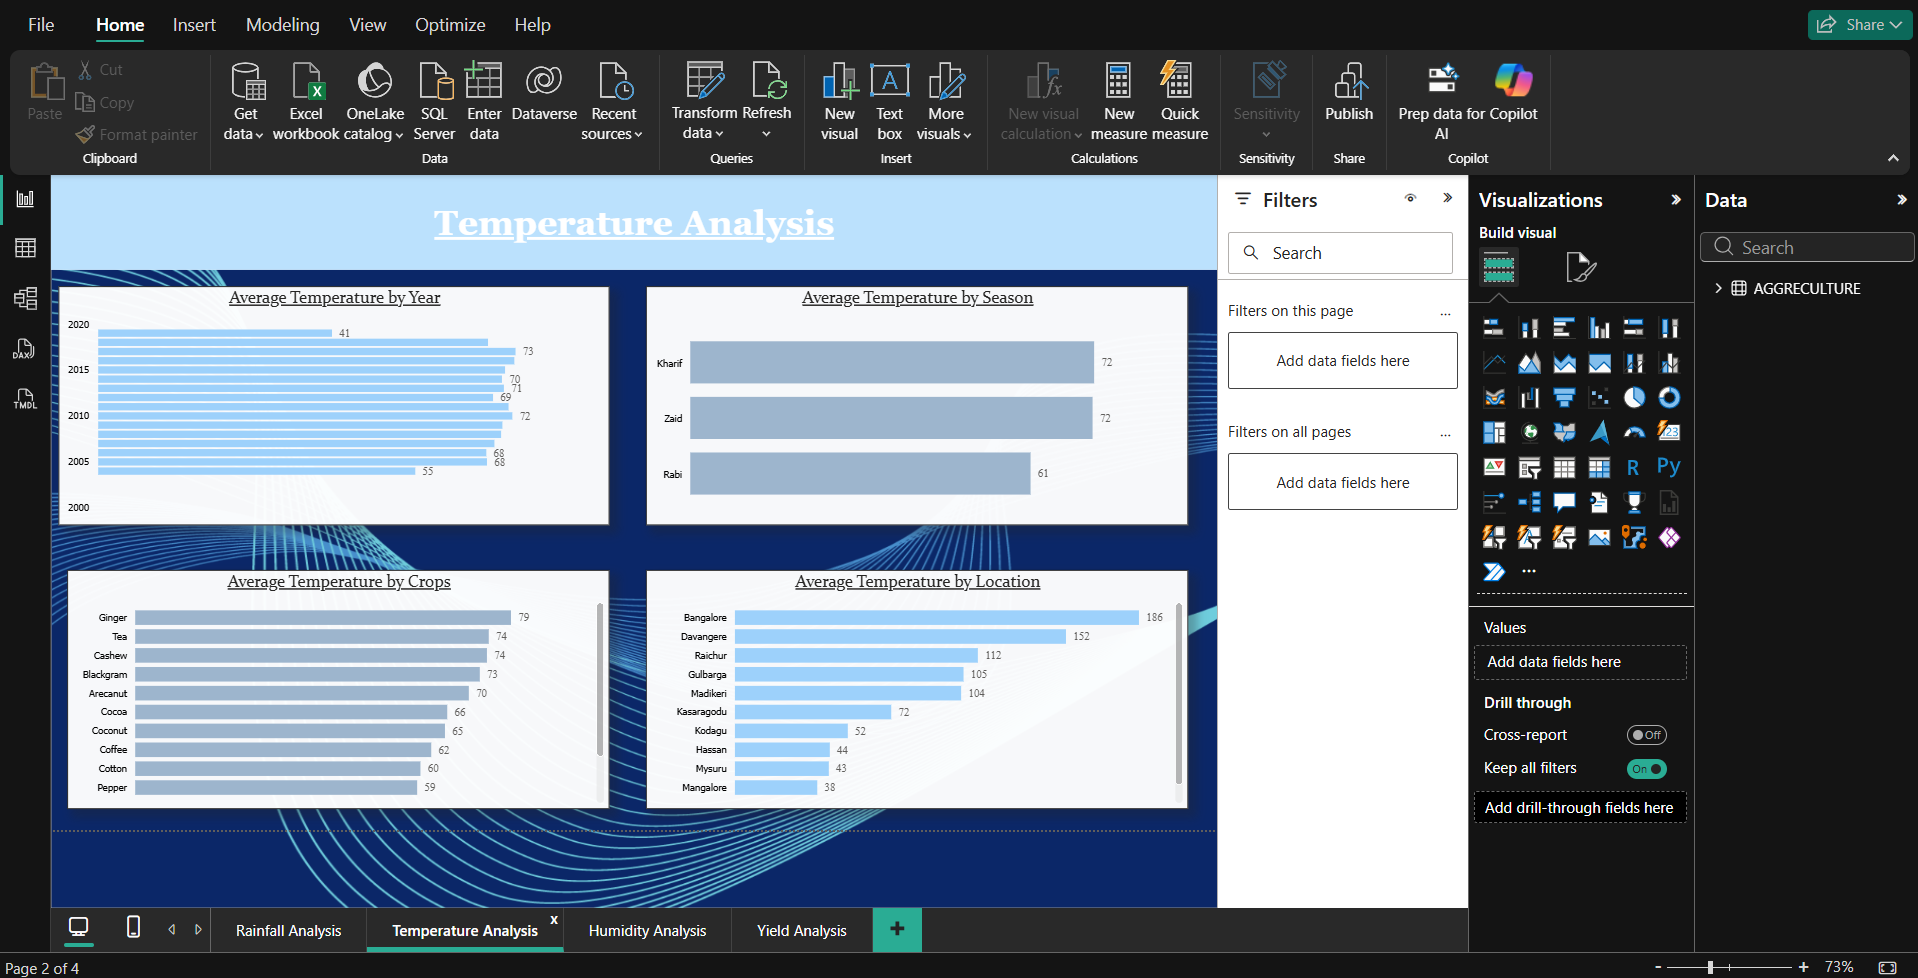

This screenshot's page, from the dashboard's own definition file:
{"tool":"powerbi","page":{"name":"Temperature Analysis","canvas":[1280,720],"ordinal":1},"visuals":[{"type":"shape","box":[0,0,1280.3,104.3],"z":0},{"type":"barChart","title":"Average Temperature by Year","fields":{"Category":["AGGRECULTURE.YEAR"],"Y":["Avg(AGGRECULTURE.TEMPERATURE)"]},"box":[8.2,122.1,605.1,262.1],"z":1000},{"type":"barChart","title":"Average Temperature by Season","fields":{"Category":["AGGRECULTURE.SEASON"],"Y":["Avg(AGGRECULTURE.TEMPERATURE)"]},"box":[653.2,122.1,595.5,262.1],"z":2000},{"type":"barChart","title":"Average Temperature by Crops","fields":{"Category":["AGGRECULTURE.CROPS"],"Y":["Avg(AGGRECULTURE.TEMPERATURE)"]},"box":[17.8,433.6,595.5,262.1],"z":3000},{"type":"barChart","title":"Average Temperature by Location","fields":{"Category":["AGGRECULTURE.LOCATION"],"Y":["Avg(AGGRECULTURE.TEMPERATURE)"]},"box":[653.2,433.6,595.5,262.1],"z":4000}]}

Visuals, with their boxes on the page's 1280x720 design canvas (x1, y1, x2, y2). These are canvas units, not pixel positions in the 1918x978 screenshot, which may show the page scaled, cropped or inside an application window:
shape: x1=0 y1=0 x2=1280 y2=104
"Average Temperature by Year" barChart: x1=8 y1=122 x2=613 y2=384
"Average Temperature by Season" barChart: x1=653 y1=122 x2=1249 y2=384
"Average Temperature by Crops" barChart: x1=18 y1=434 x2=613 y2=696
"Average Temperature by Location" barChart: x1=653 y1=434 x2=1249 y2=696
